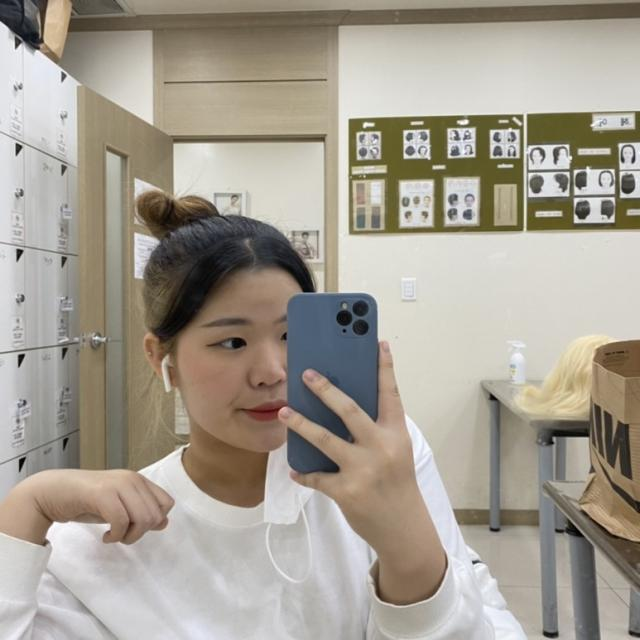phone: (287, 293, 379, 473)
